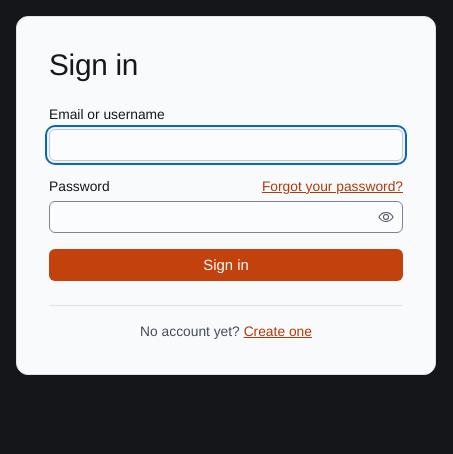
it: LoginPage › shows a rejected sign-in above the form, not against a field
Type "ada@example.test" into the field labelled "Email or username" at (226, 145), box [50,130,402,160]
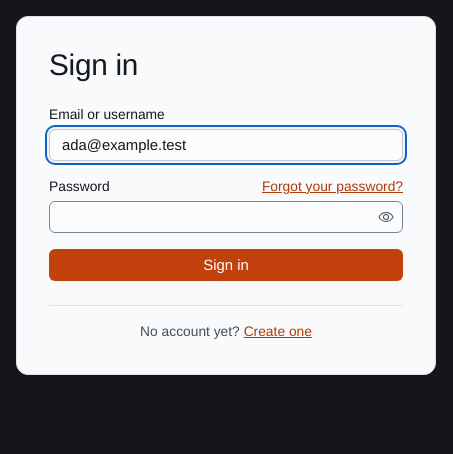
Type "wrong-password" into the password field labelled "Password" at (212, 217), box [50,202,374,232]
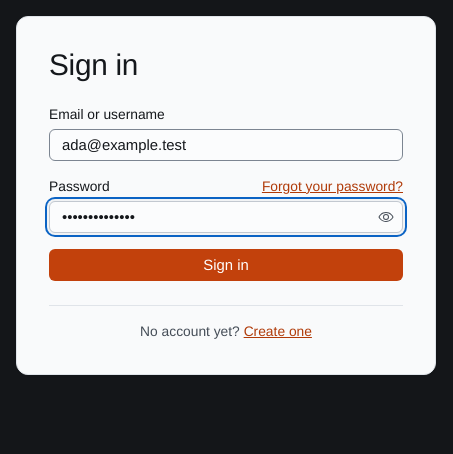
Click the button "Sign in" at (226, 265), box [49,249,403,281]
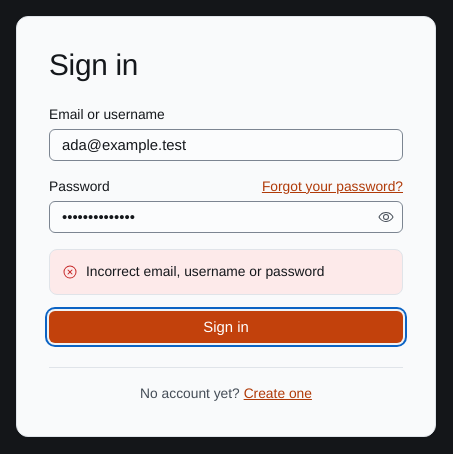
Now the message reads "Incorrect email, username or password", box [86,263,324,280]
